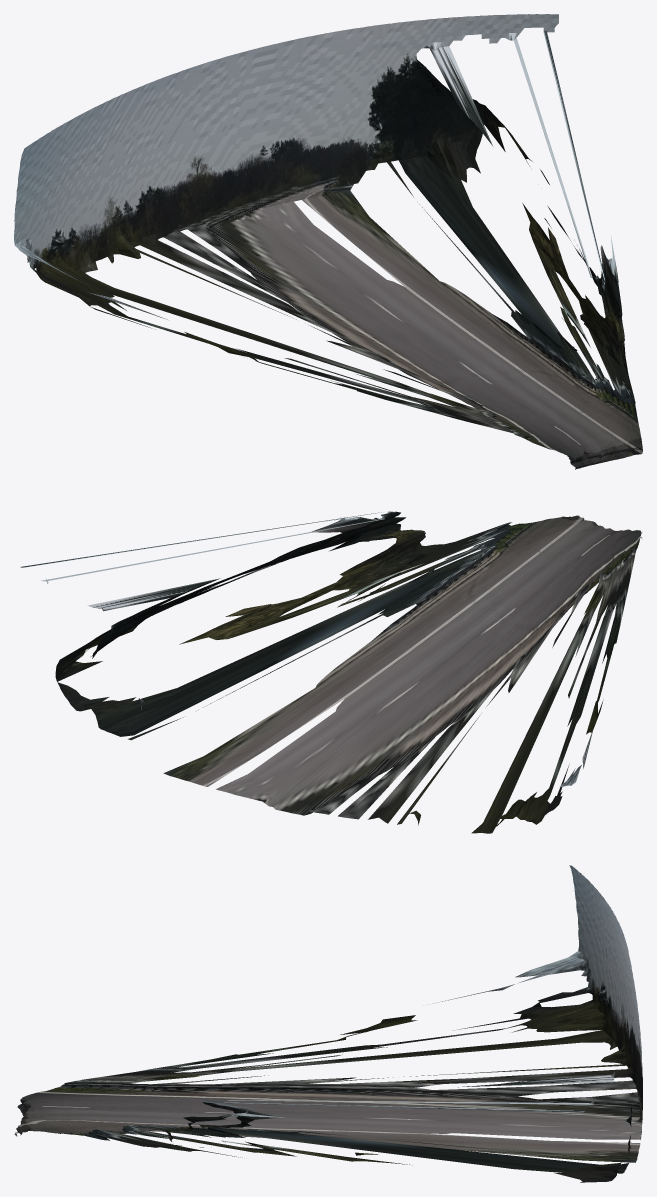
The picture shows the model from 3 angles, top to bottom: view 1: azimuth 30°, elevation 25°; view 2: azimuth 150°, elevation 25°; view 3: azimuth 270°, elevation 25°; orthographic projection. The views are drawn at different scales.
Visible parts, largest first — view 1: defaultobject; view 2: defaultobject; view 3: defaultobject.
Part boxes in pixels (box(x1,y1,x2,y2)): defaultobject: box(14, 14, 642, 469); defaultobject: box(20, 511, 641, 833); defaultobject: box(14, 865, 642, 1182).
Bounding box in the file's own units: 39.8 × 12.1 × 44.55.
1 material, 1 textured.
